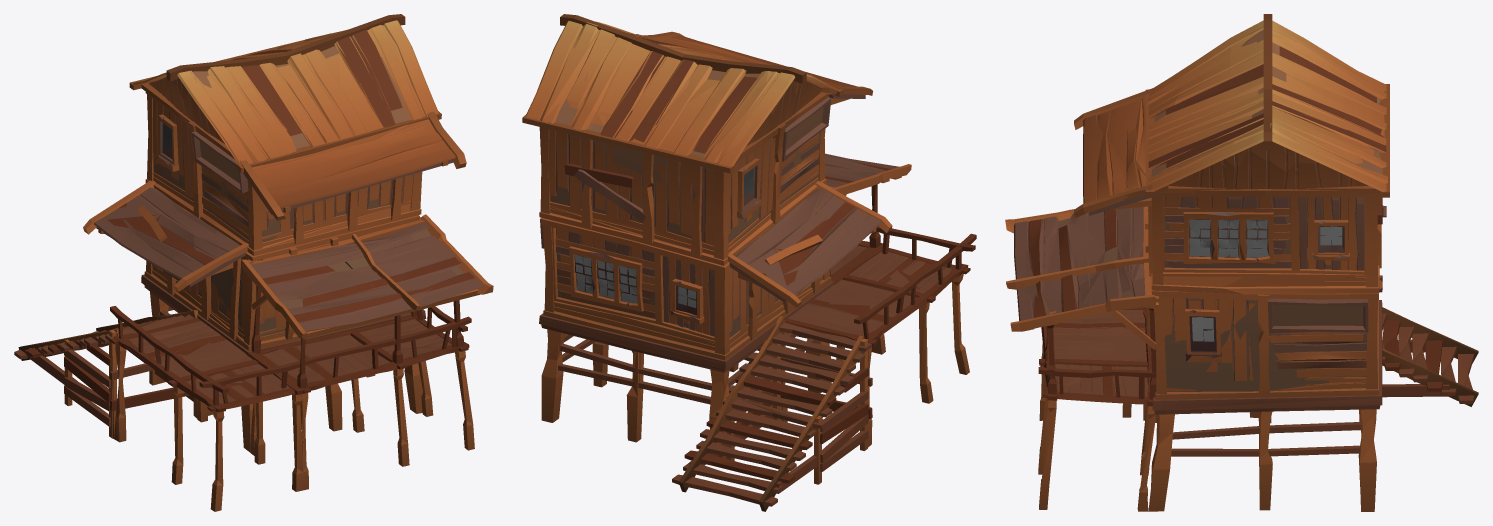
File: Shanty Preset 05.fbx
3 views of the same model, side by side, from view 1: azimuth 30°, elevation 25°; view 2: azimuth 150°, elevation 25°; view 3: azimuth 270°, elevation 25° (orthographic). The views are drawn at different scales.
Visible parts, largest first — view 1: Shanty Preset 05 high, Shanty Preset 05 low, Shanty Preset 05; view 2: Shanty Preset 05 high, Shanty Preset 05 low, Shanty Preset 05; view 3: Shanty Preset 05 high, Shanty Preset 05 low, Shanty Preset 05.
Part boxes in pixels (x1,y1,x2,y2): Shanty Preset 05 high: (14,14,493,511); Shanty Preset 05 low: (80,25,472,485); Shanty Preset 05: (124,23,475,398); Shanty Preset 05 high: (522,14,976,511); Shanty Preset 05 low: (527,26,959,500); Shanty Preset 05: (538,25,937,458); Shanty Preset 05 high: (1005,14,1478,511); Shanty Preset 05 low: (1025,29,1473,511); Shanty Preset 05: (1028,55,1385,414).
Bounding box in the file's own units: 8.38 × 9.38 × 10.35.
1 material, 1 textured.
